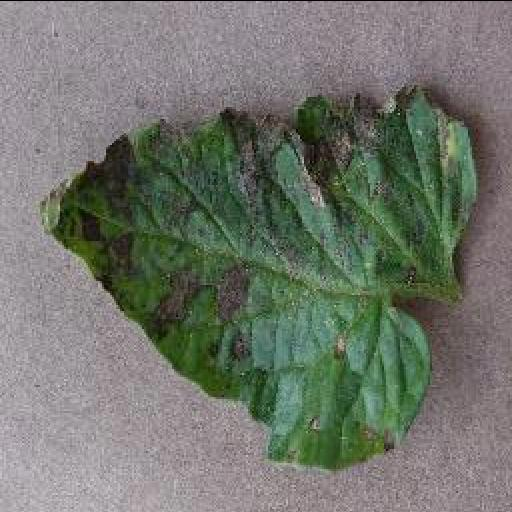disease_tomato: (40, 84, 482, 474)
